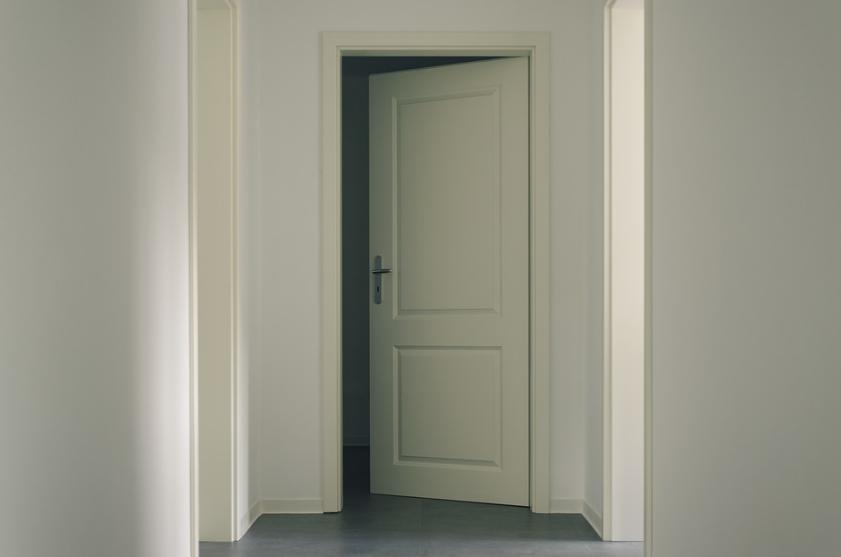doorhandle: (360, 248, 415, 299)
